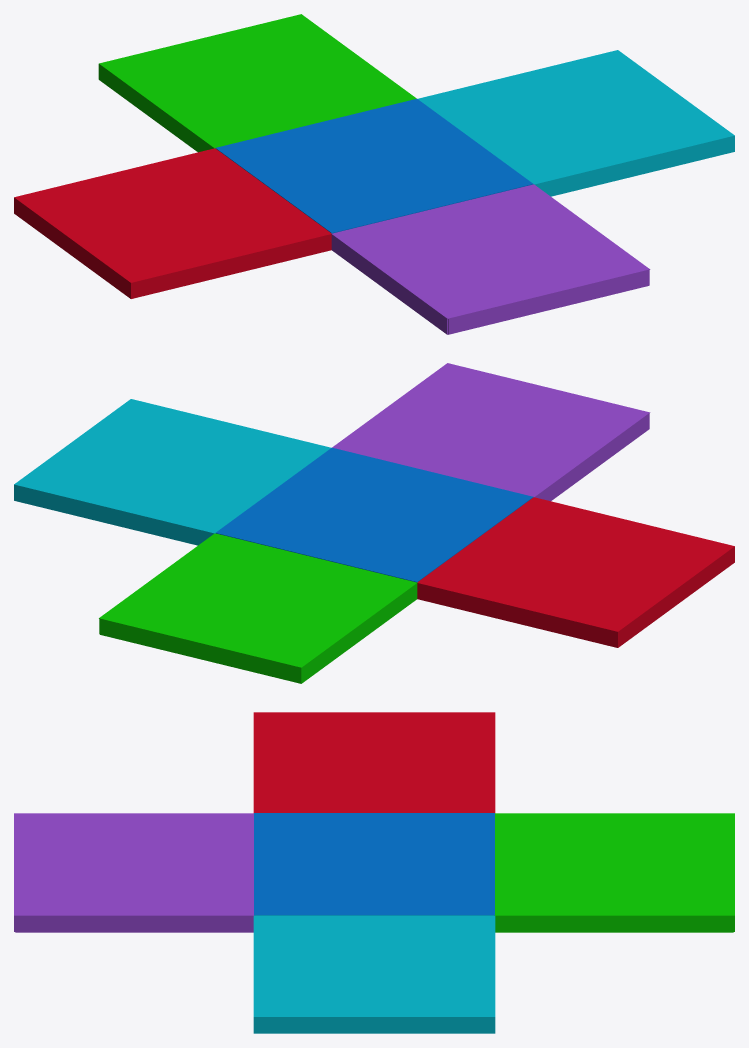
The model's file is vendetta2.fbx.
3 views of the same model, one above another, from view 1: azimuth 30°, elevation 25°; view 2: azimuth 150°, elevation 25°; view 3: azimuth 270°, elevation 25° (orthographic). The views are drawn at different scales.
Visible parts, largest first — view 1: Cube.002, Cube.024; view 2: Cube.002, Cube.024; view 3: Cube.002, Cube.024.
Boxes of the visible parts, <box> form: Cube.002: <box>14,14,734,334</box>; Cube.024: <box>215,99,533,233</box>; Cube.002: <box>14,363,734,683</box>; Cube.024: <box>215,447,533,582</box>; Cube.002: <box>14,712,734,1033</box>; Cube.024: <box>254,813,494,915</box>.
Size of the model in its own units: 12040 by 330 by 12040.
